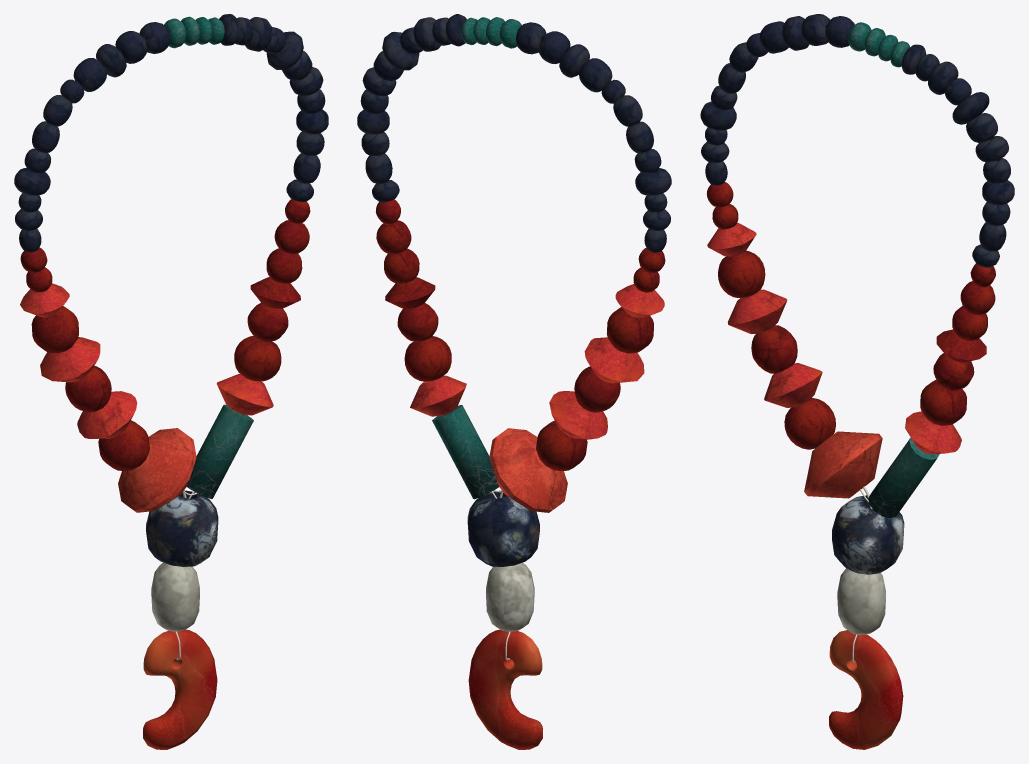
File: necklace-v1.glb
The picture shows the model from 3 angles, left to right: view 1: azimuth 30°, elevation 25°; view 2: azimuth 150°, elevation 25°; view 3: azimuth 330°, elevation 25°; orthographic projection.
Visible parts, largest first — view 1: SM_CL00095; view 2: SM_CL00095; view 3: SM_CL00095.
Part boxes in pixels (box(x1,y1,x2,y2)): SM_CL00095: box(14, 14, 328, 749); SM_CL00095: box(357, 14, 671, 749); SM_CL00095: box(700, 14, 1014, 749).
Size of the model in its own units: 0.8895 by 2 by 0.2298.
1 material, 1 textured.
